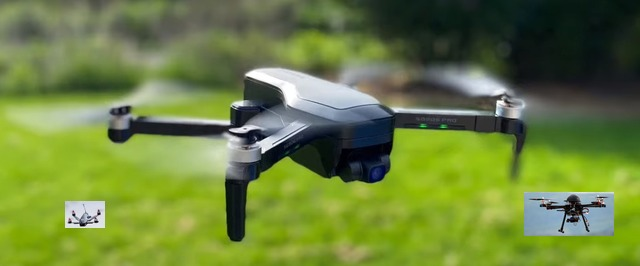drone: (105, 68, 525, 241), (524, 192, 614, 236), (65, 201, 105, 228)
